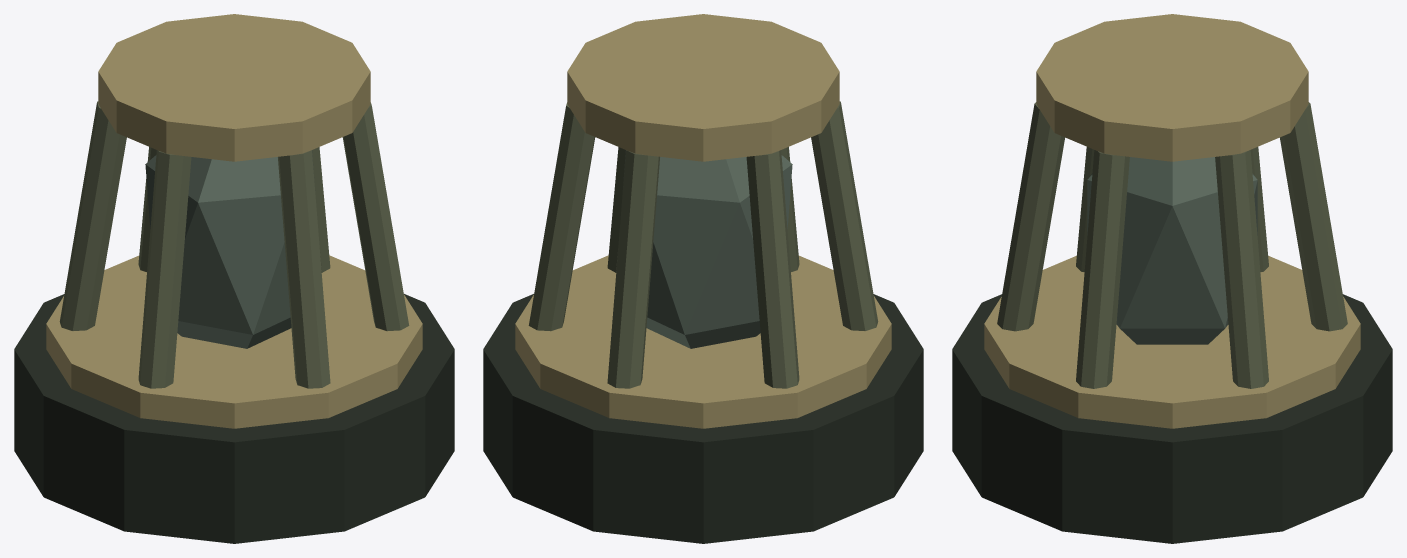
File: loot_relic.obj
3 views of the same model, side by side, from view 1: azimuth 30°, elevation 25°; view 2: azimuth 150°, elevation 25°; view 3: azimuth 270°, elevation 25° (orthographic).
Parts seen in each view (by area): view 1: loot_relic; view 2: loot_relic; view 3: loot_relic.
Boxes of the visible parts, bbox=[...] form: loot_relic: bbox=[14, 14, 454, 543]; loot_relic: bbox=[483, 14, 923, 543]; loot_relic: bbox=[952, 14, 1392, 543].
Bounding box in the file's own units: 1.1 × 1.04 × 1.1.
1 material, 1 textured.
